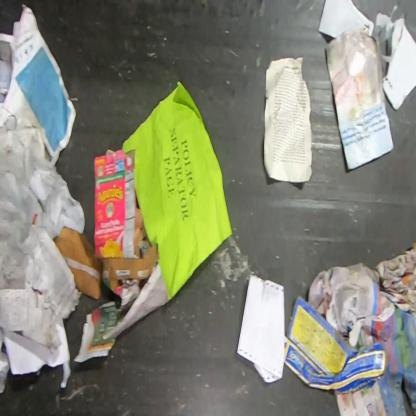cardboard: (284, 294, 388, 395), (54, 226, 159, 300), (92, 148, 140, 260)
